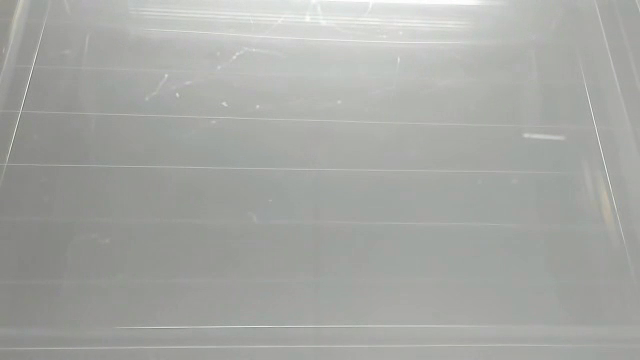alpha: (517, 128, 569, 145)
